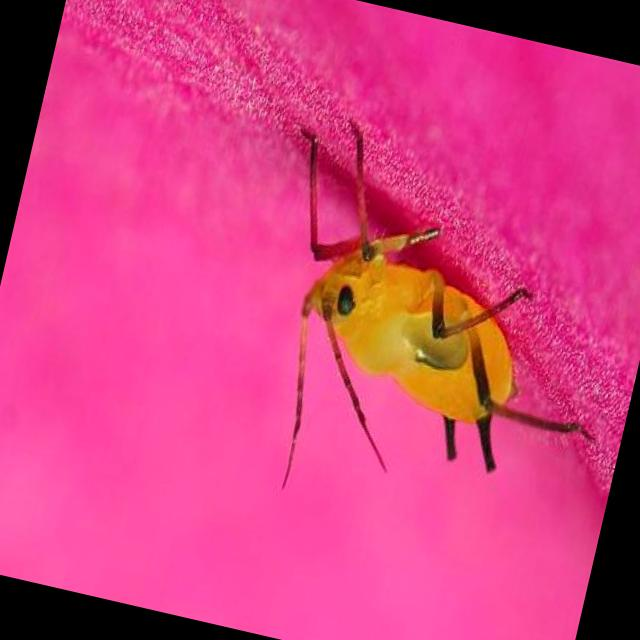aphid: (204, 80, 640, 532)
